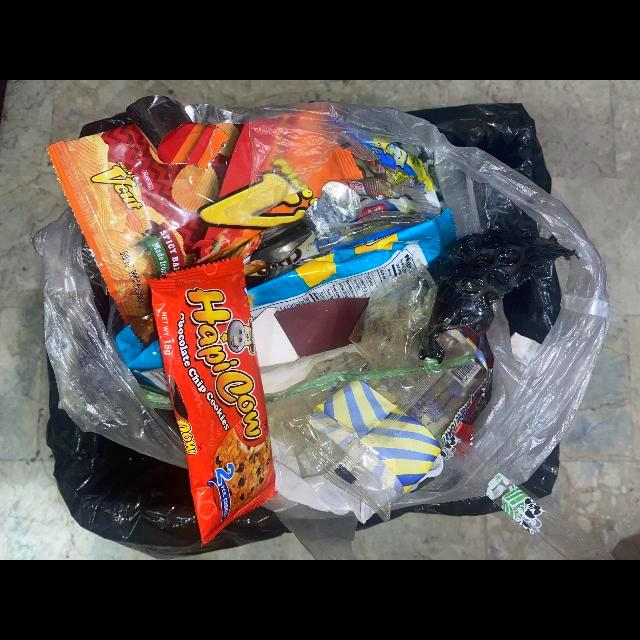food_wrapper: (45, 95, 363, 326), (114, 207, 457, 396), (281, 327, 488, 522), (147, 255, 278, 547), (334, 141, 440, 215)
plastic_bag: (349, 268, 435, 407)
